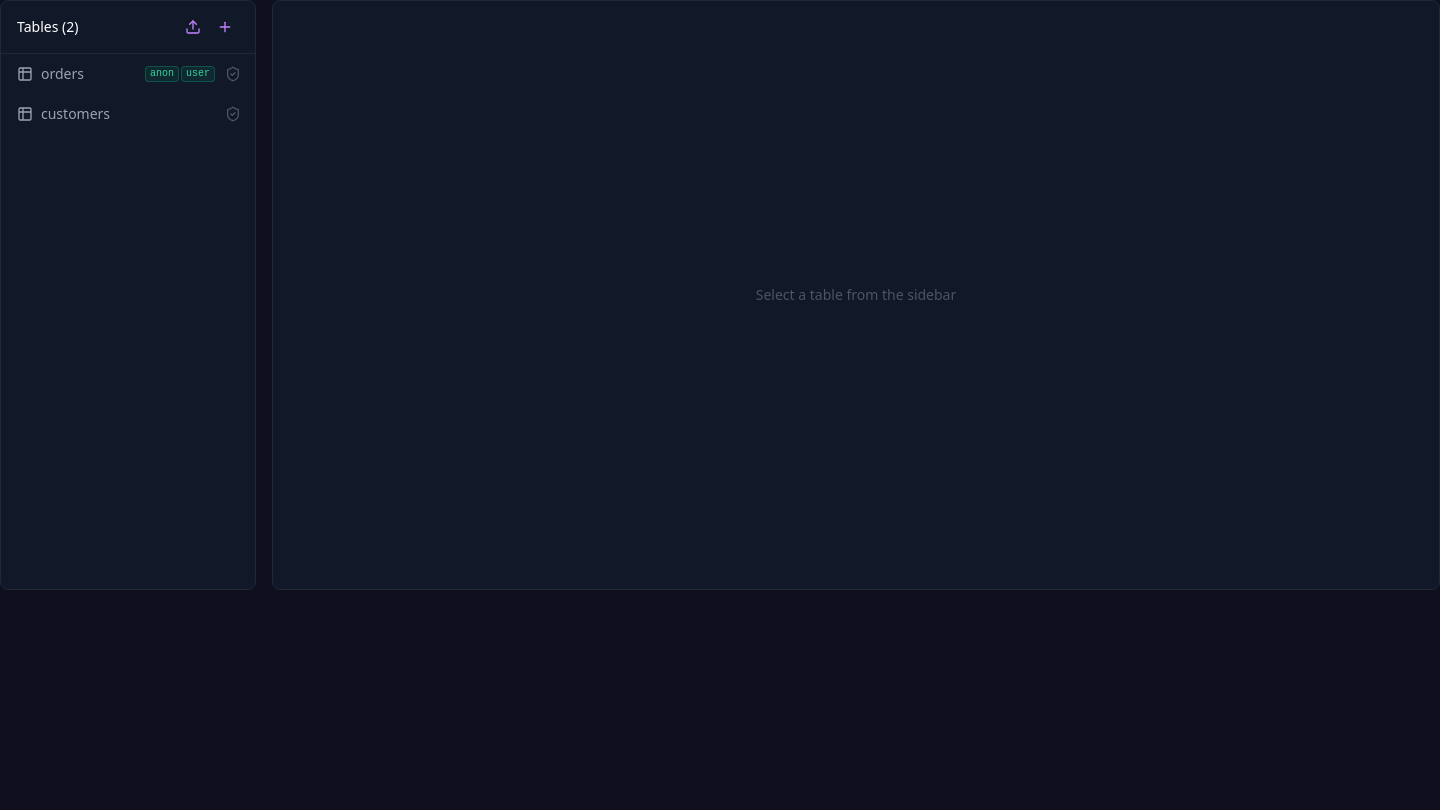
Test: create table with public read › both read options start unchecked and explain the default
Click the button with test id "new-table-btn".
click(225, 27)  # box [211,13,239,41]
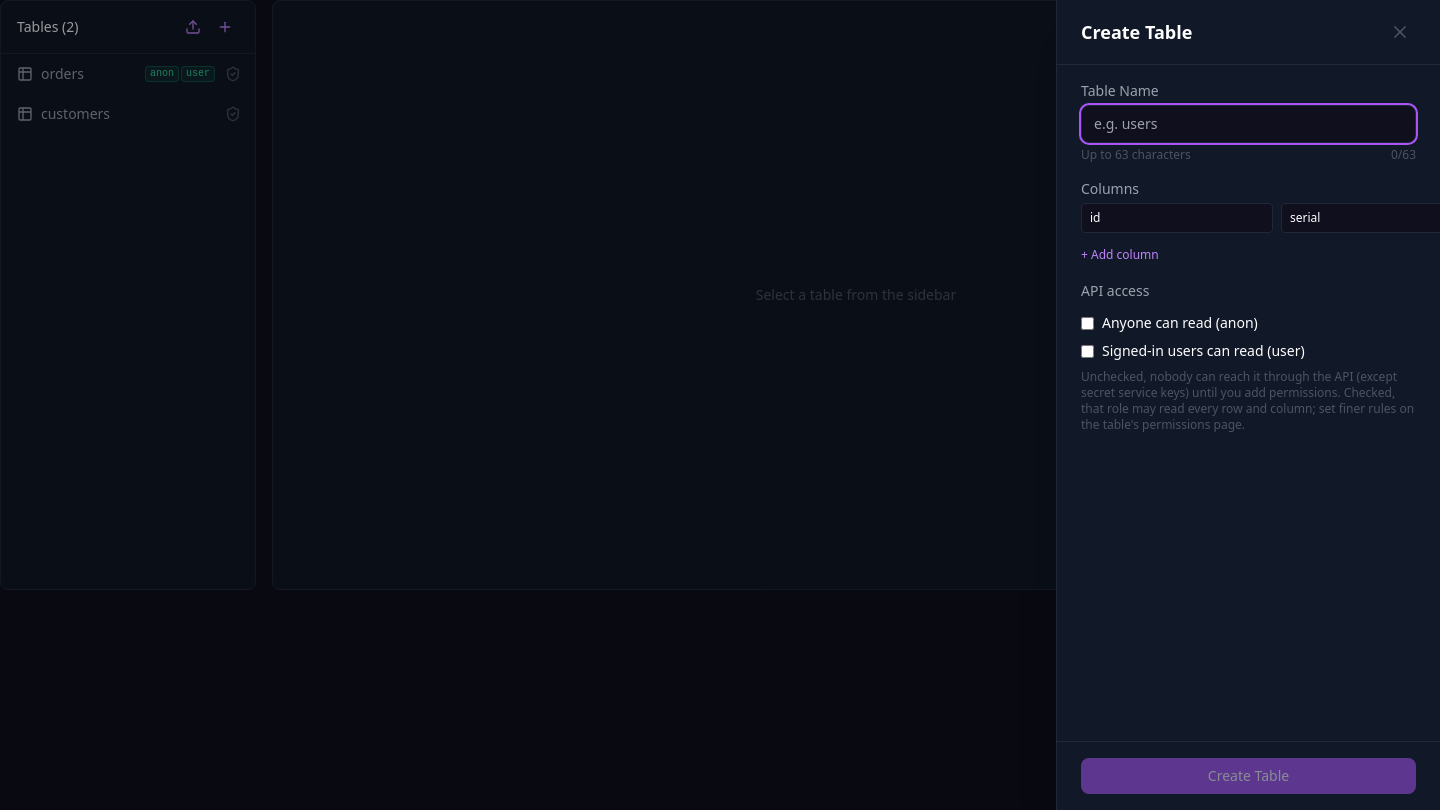
Expected: the checkbox labelled "Anyone can read (anon)" is not checked, [1081,316,1094,330]
Expected: the checkbox labelled "Signed-in users can read (user)" is not checked, [1081,344,1094,358]
Expected: the text "nobody can reach it through the API" is shown, [1081,368,1414,433]
